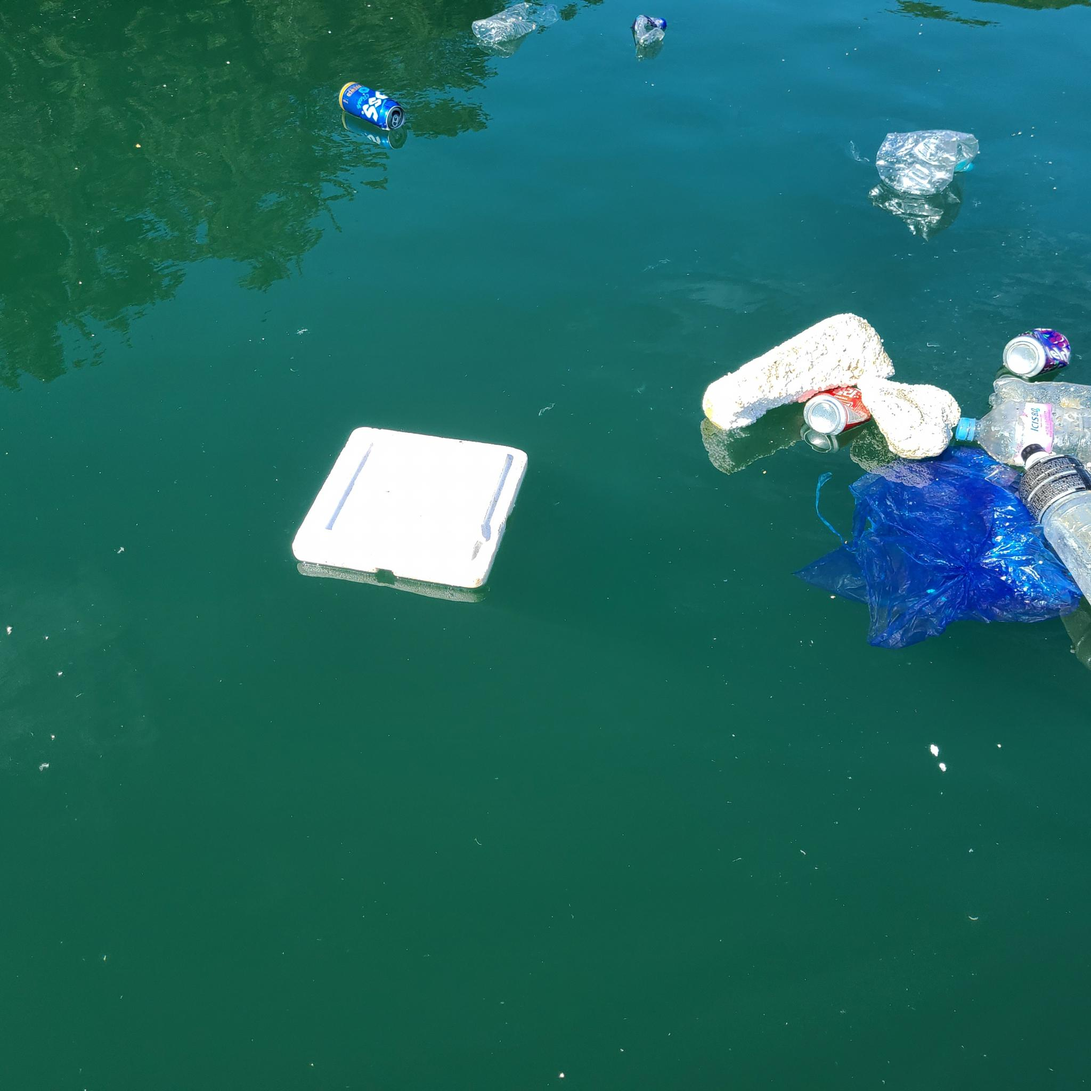sampah_terapung: (792, 448, 1084, 649), (293, 427, 528, 589), (703, 313, 896, 430), (1019, 444, 1091, 608), (857, 375, 962, 460), (955, 402, 1091, 467), (876, 129, 979, 197), (472, 3, 560, 43), (1003, 329, 1072, 379), (804, 387, 872, 437), (340, 82, 406, 132), (989, 378, 1091, 408), (634, 16, 667, 48)
